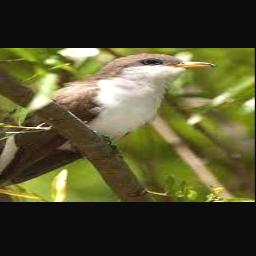Cuckoo: (0, 53, 218, 201)
